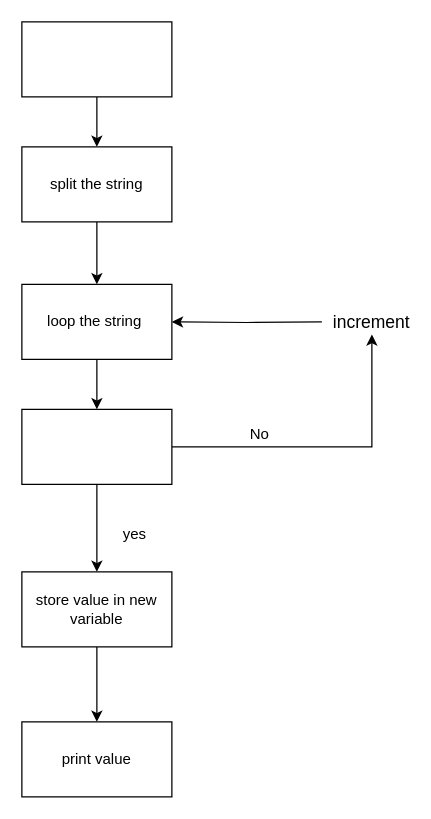
The diagram is 431 pixels wide and 819 high, and some of its shapes have lost their labels. The shapes that lost their labels are listed below. From the top down, each one's box as (x1, y1, x2, y2) in pixels, then its label:
(21, 21, 172, 97): we have a string
(21, 408, 172, 484): check length is greater then or not
